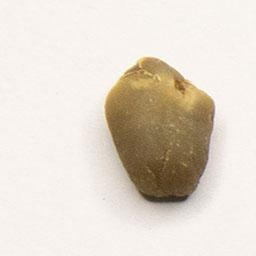defect: (98, 50, 221, 203)
